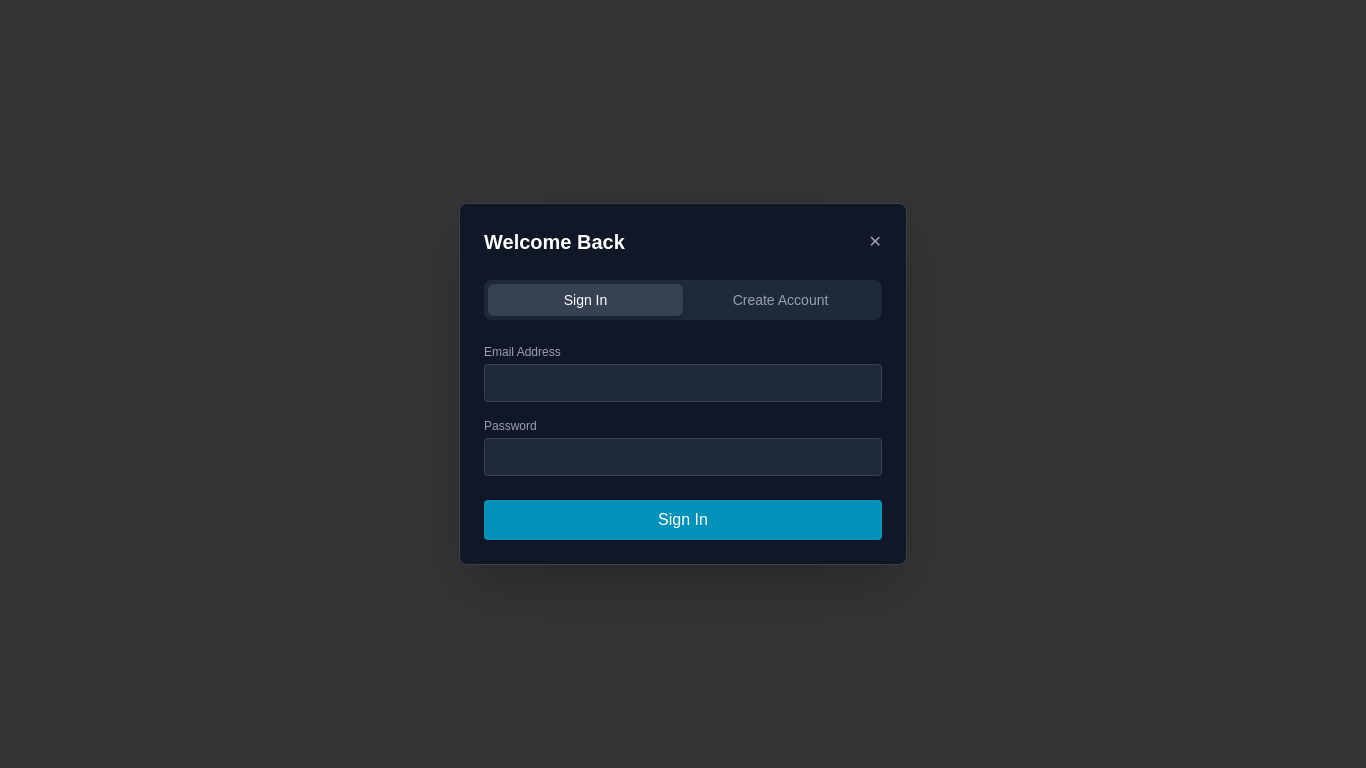
Test case: AuthModal › switches to register mode
// Click the "Create Account" tab (initially only one button with this name)
Click the button "Create Account" at (780, 300), box [683,284,878,316]
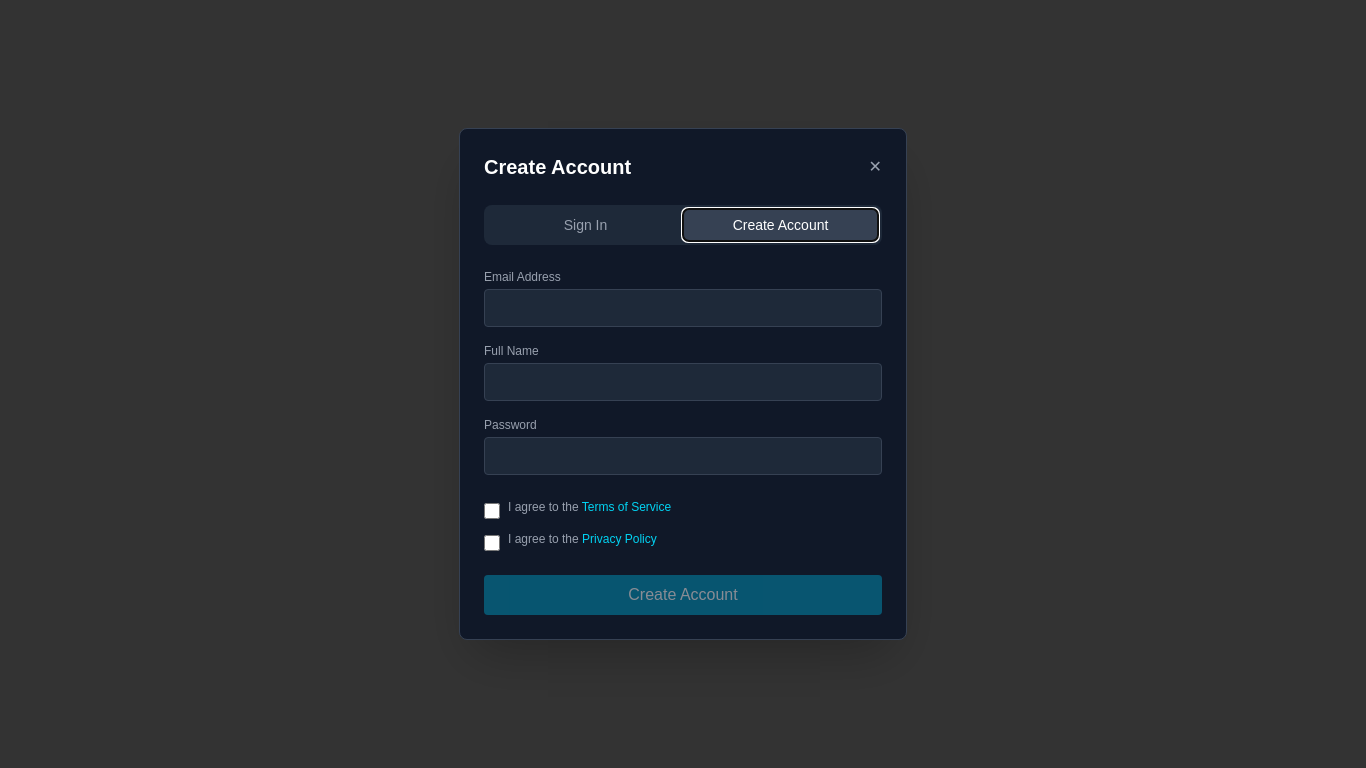
Check: the heading "Create Account" is shown, box [484,153,631,181]
Check: the field labelled "Full Name" is shown, box [484,363,882,401]
